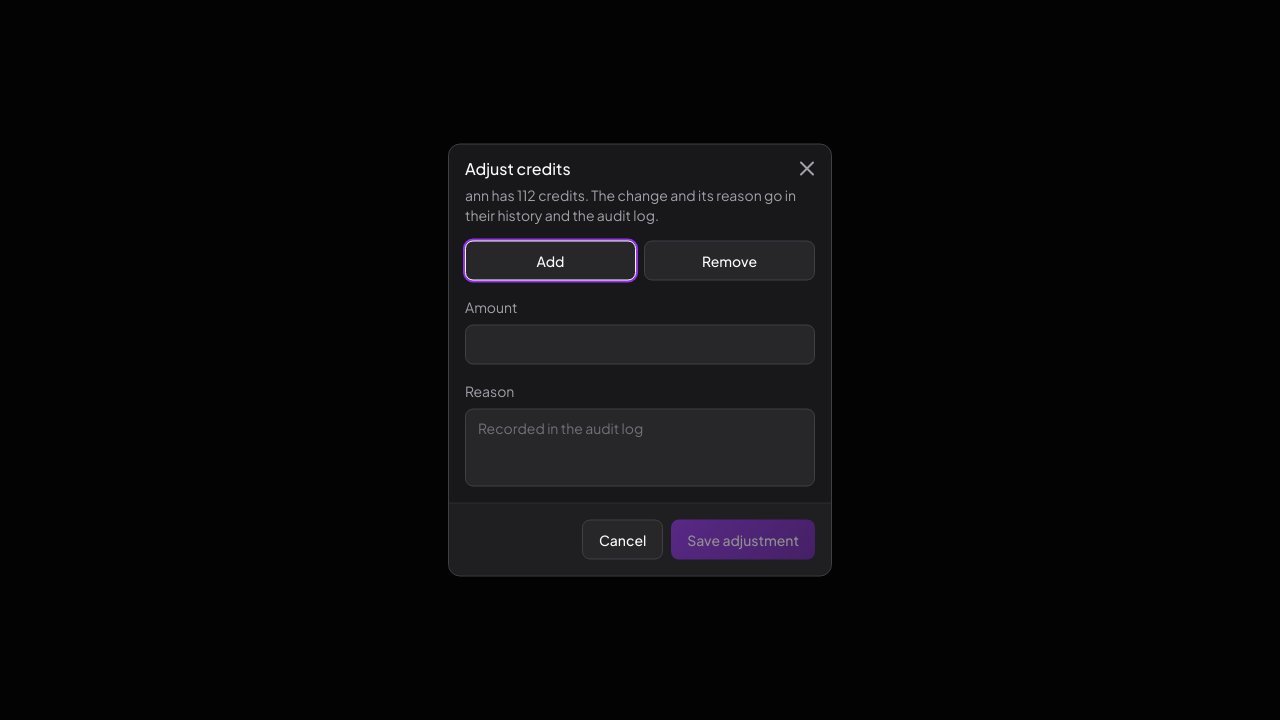
Scenario: AdjustCreditsDialog › shows the server's below-zero refusal with the balance it reports, staying open
The image size is (1280, 720).
Click the button "Remove" at (730, 260), box top-left (644, 240), bottom-right (815, 280)
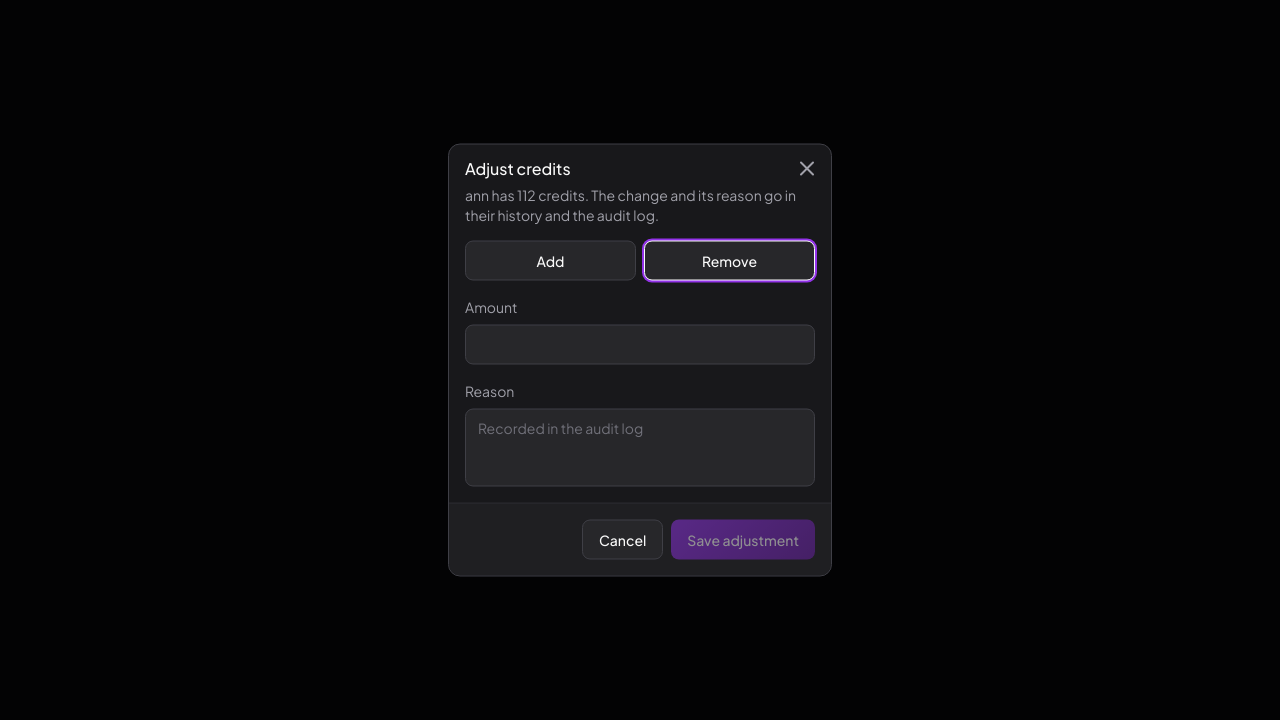
Type "20" into the field labelled "Amount" at (640, 344), box top-left (465, 324), bottom-right (815, 364)
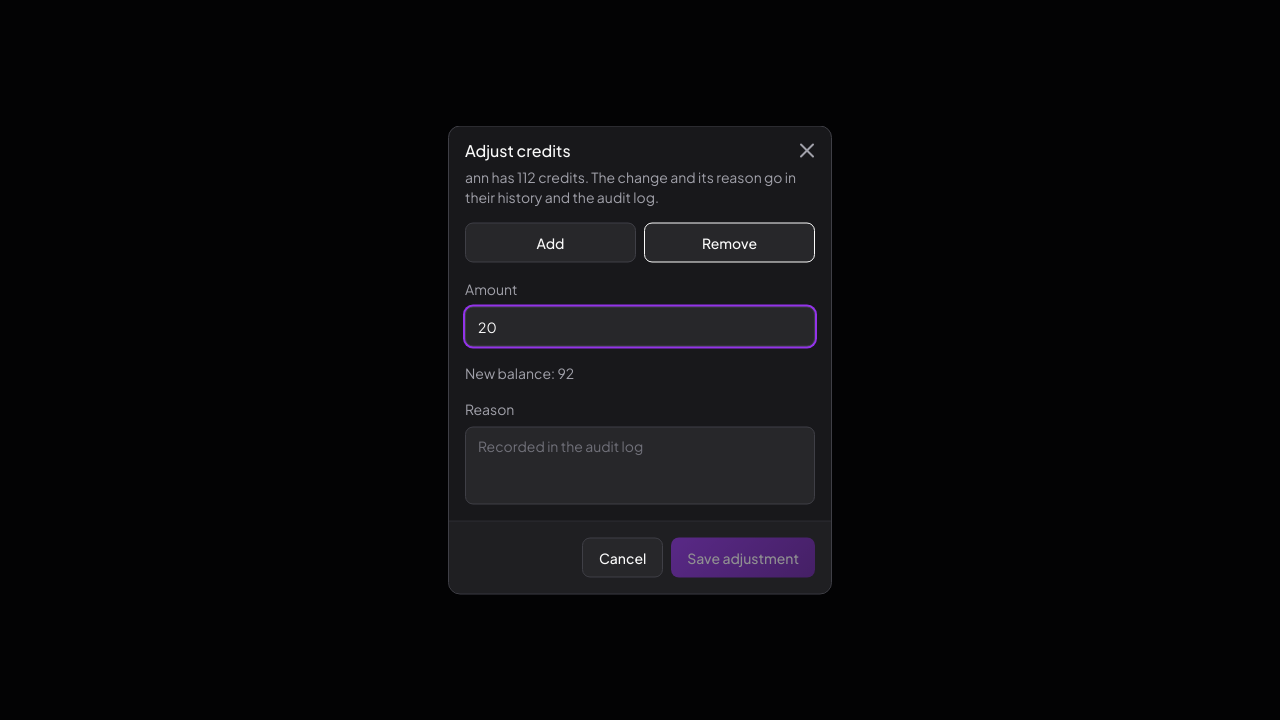
Type "Chargeback" into the text box labelled "Reason" at (640, 466), box top-left (465, 426), bottom-right (815, 504)
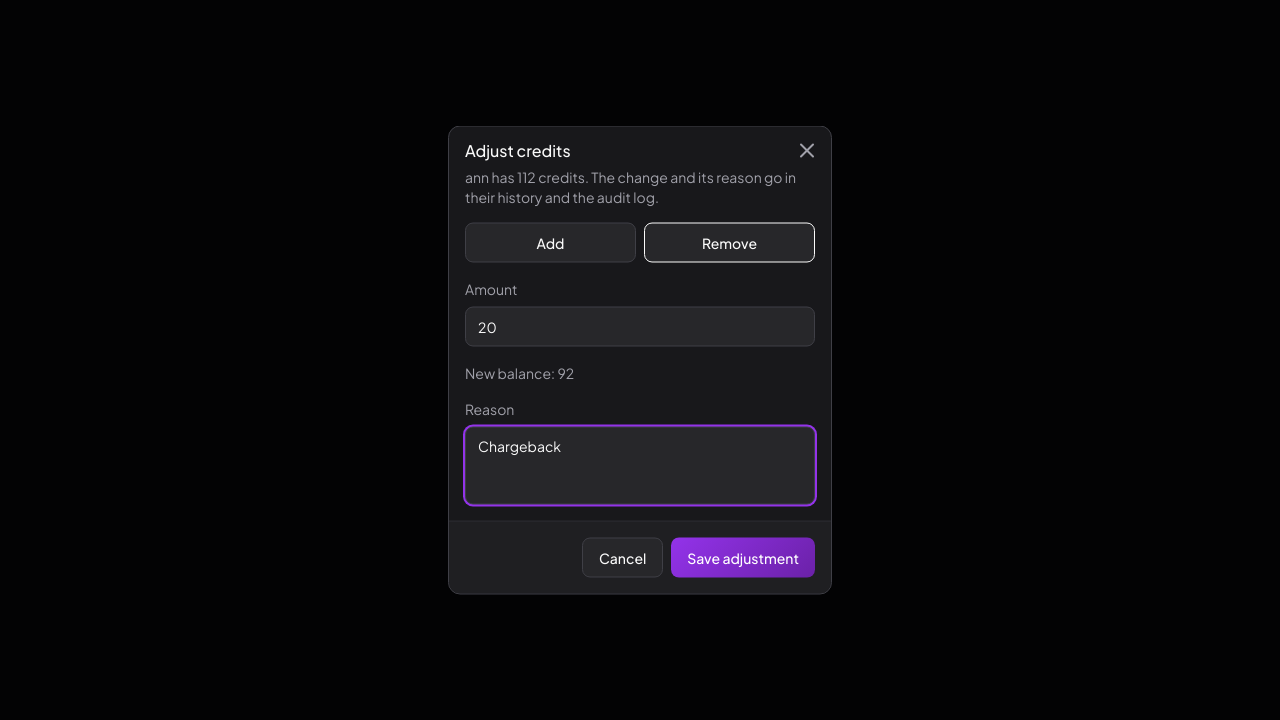
Click the button "Save adjustment" at (743, 558), box top-left (671, 538), bottom-right (815, 578)
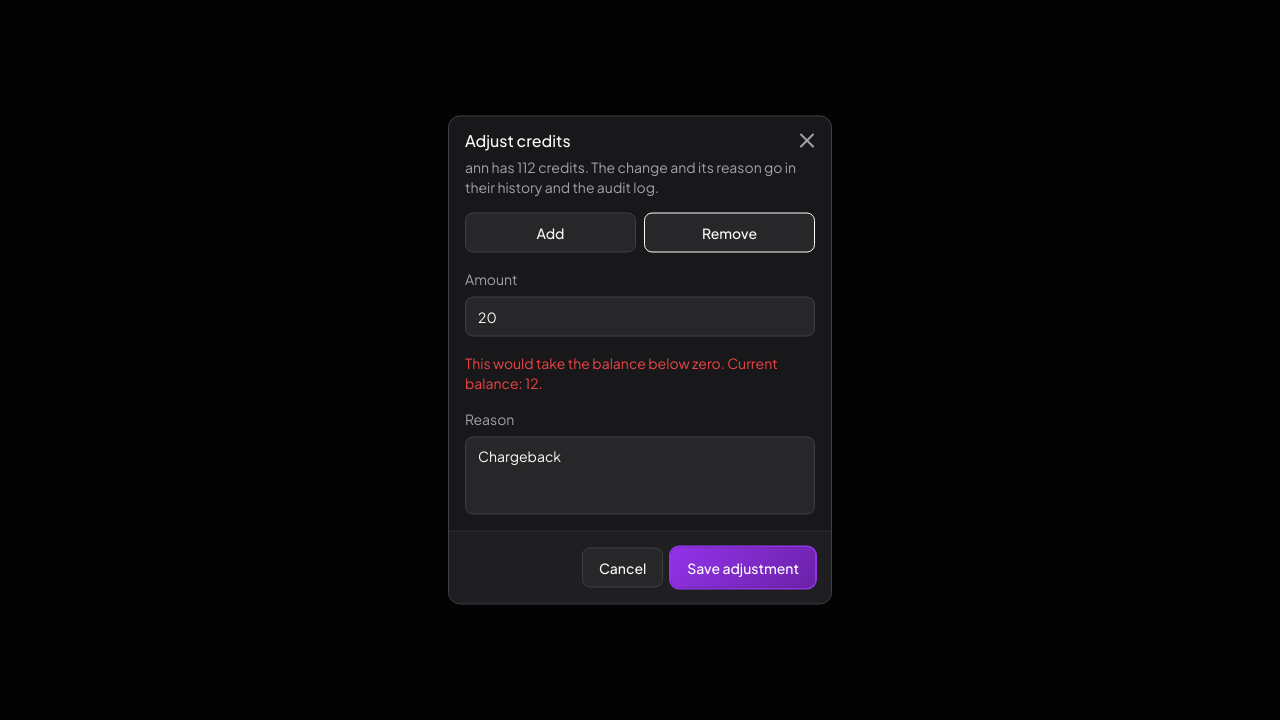
Result: the text "This would take the balance below zero. Current balance: 12." is shown at top-left (465, 352), bottom-right (815, 392)
